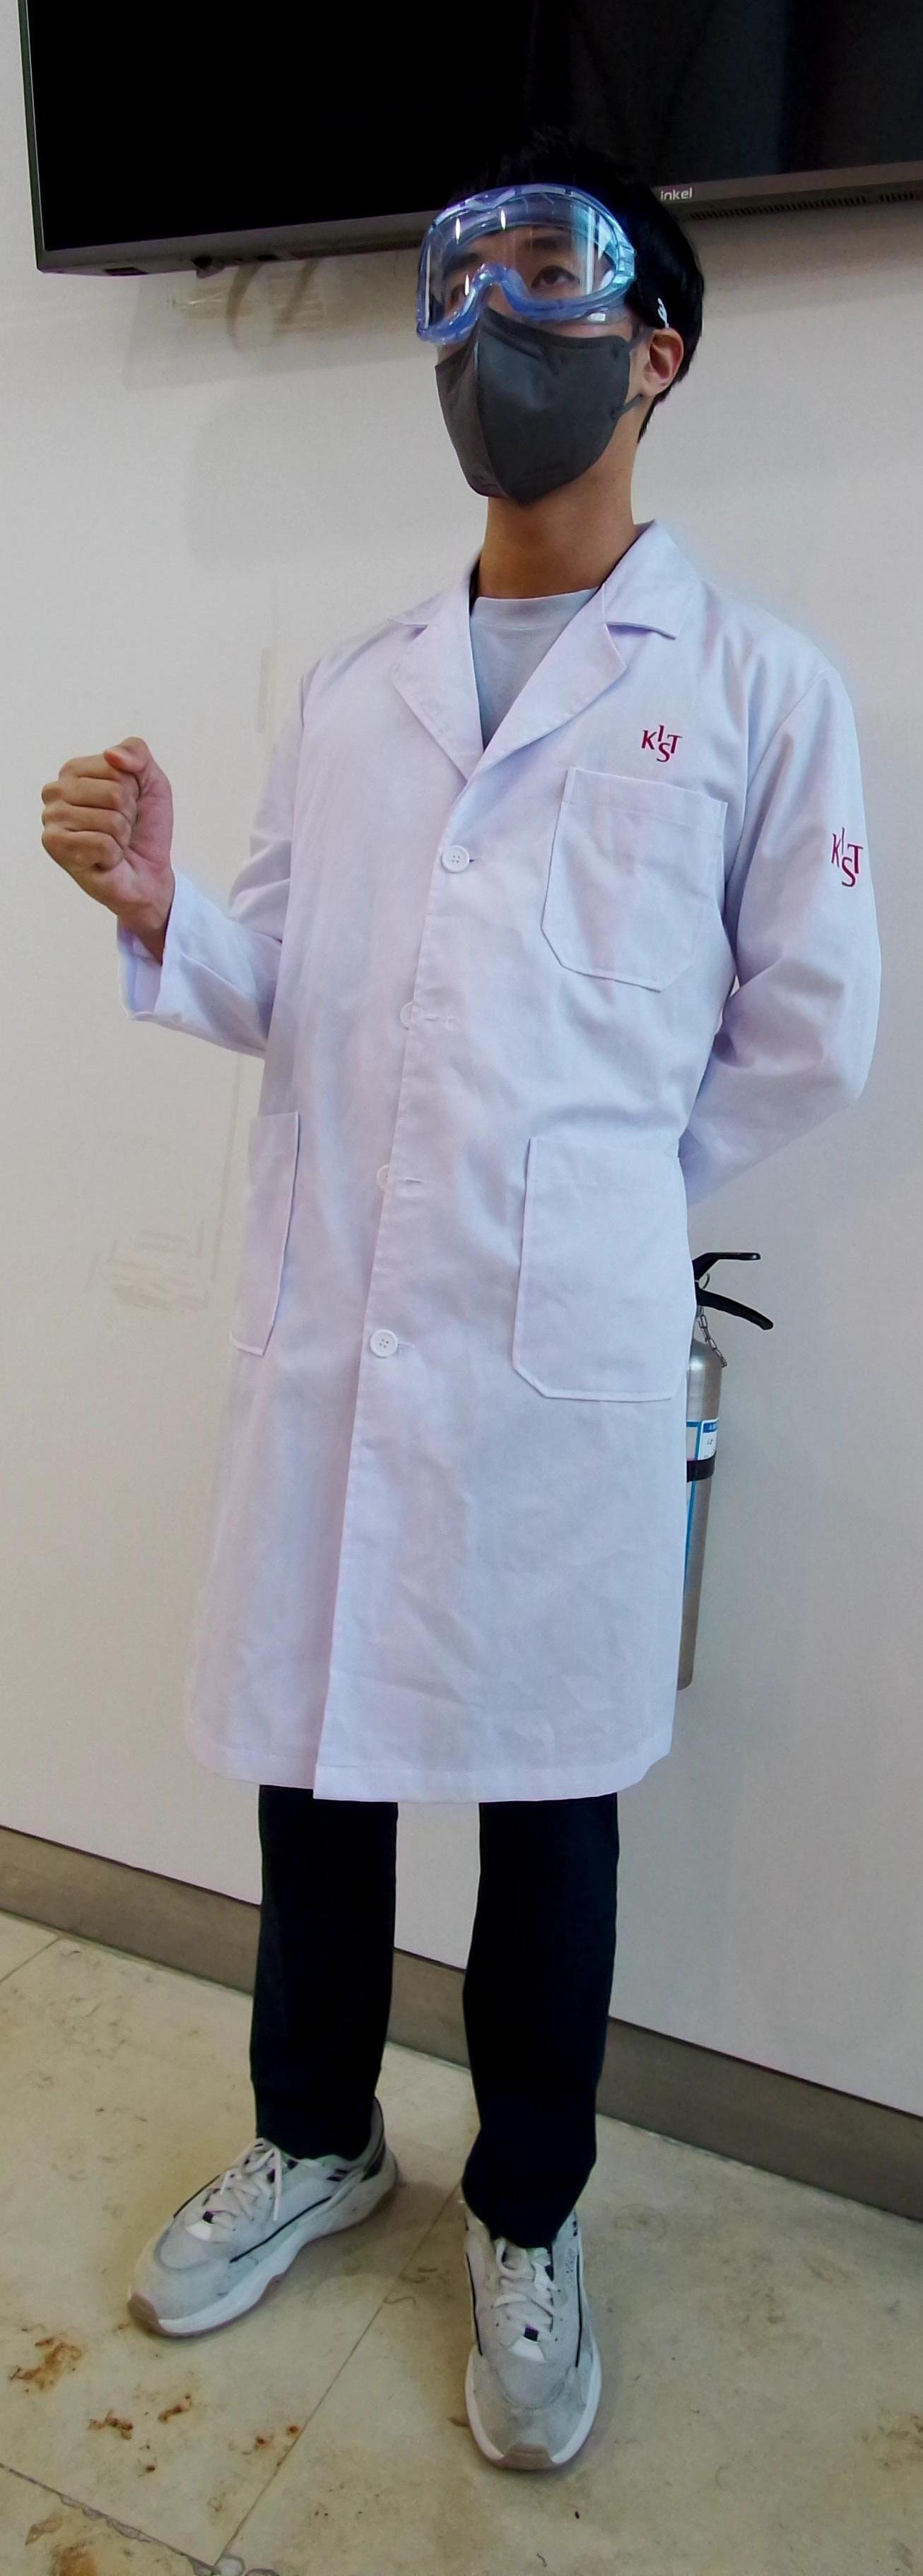lab_coat: (158, 588, 869, 1774)
